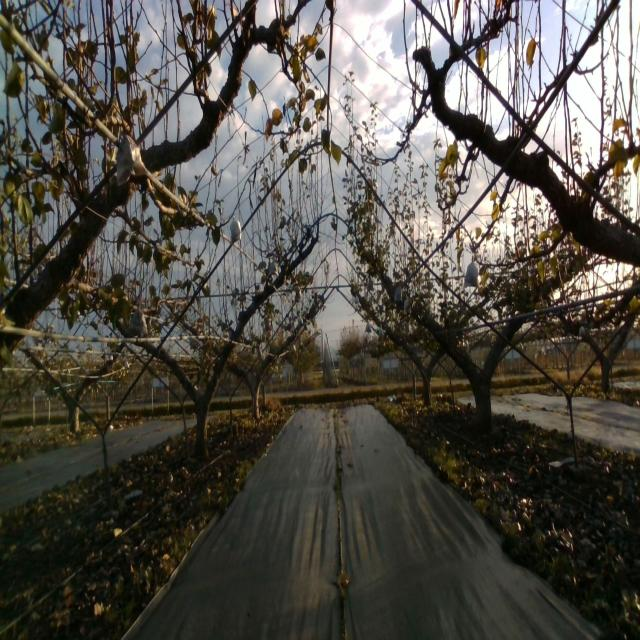pearbags: (115, 131, 148, 187), (464, 255, 478, 289), (230, 213, 242, 242), (268, 256, 278, 277)
